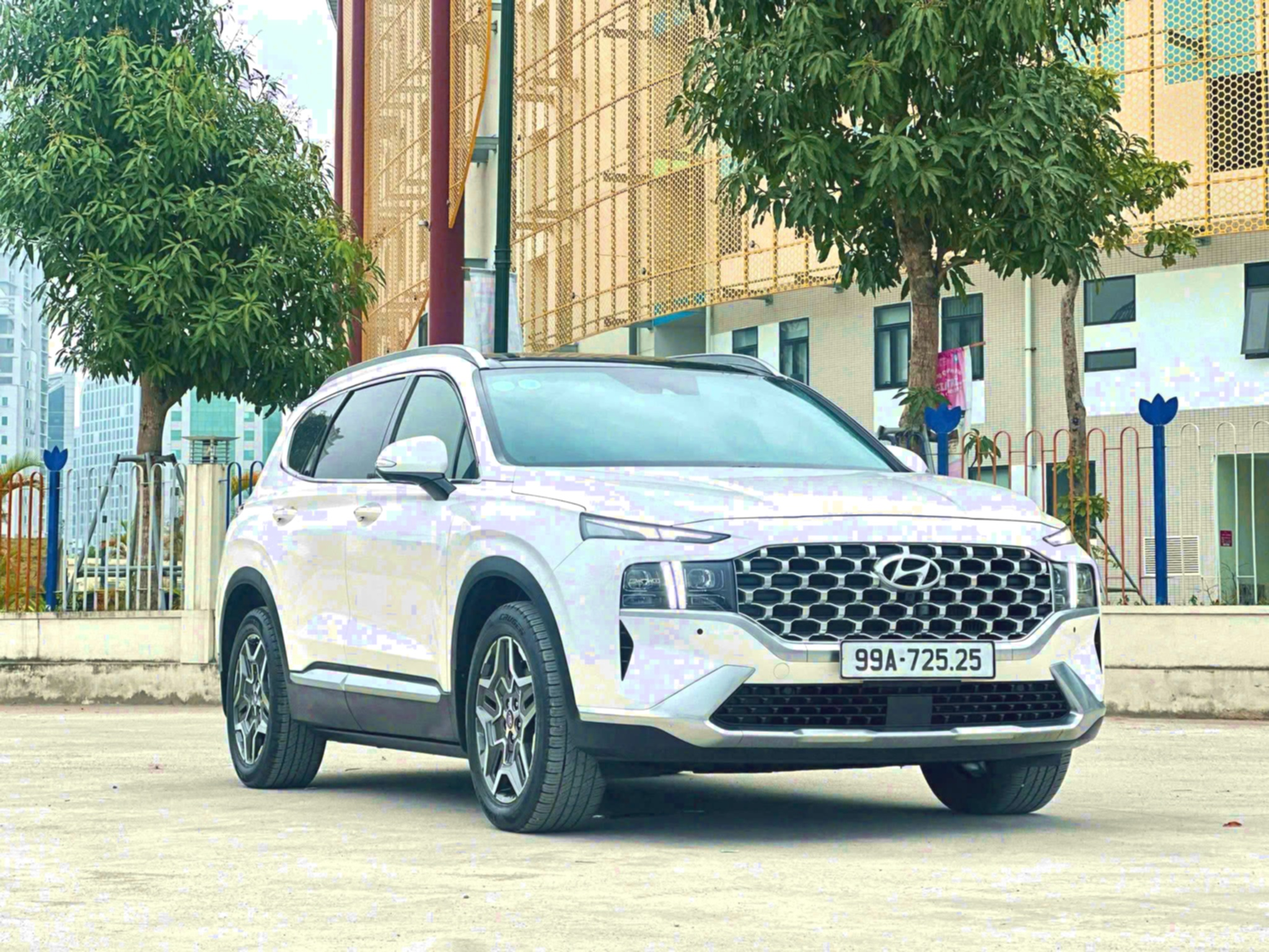Bien-so: (830, 612, 990, 660)
